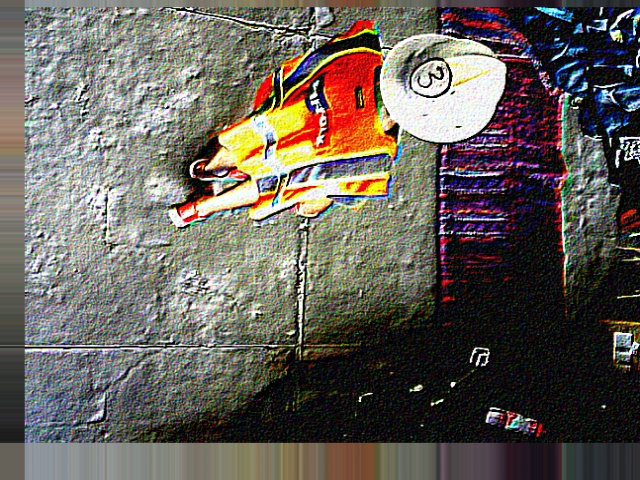three: (410, 58, 452, 97)
